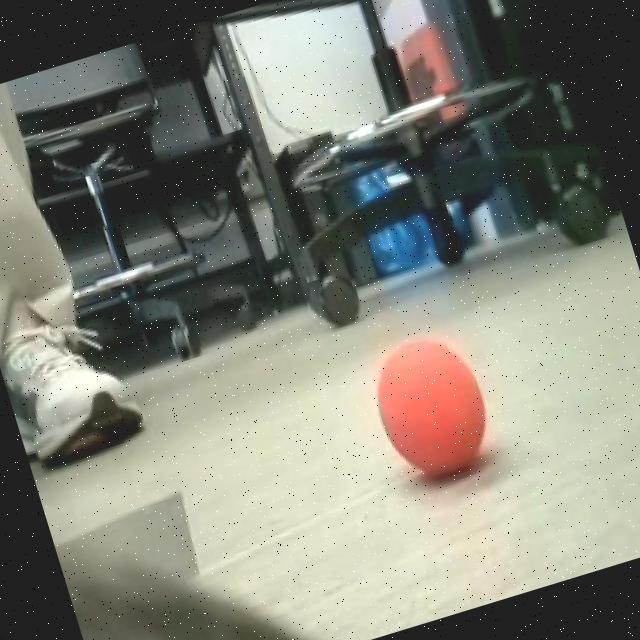ping-pong-ball: (354, 322, 508, 502)
